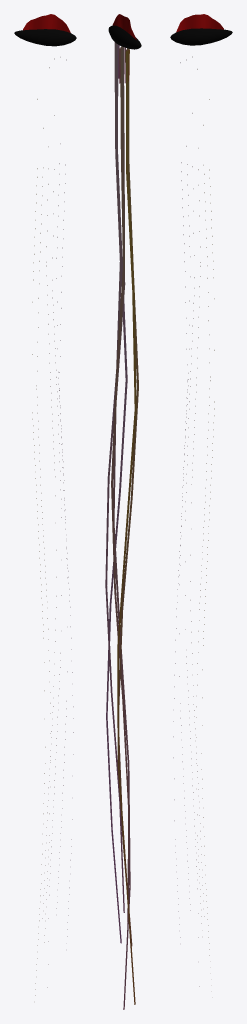
Rendered from man_o_war_lo.glb.
3 views of the same model, side by side, from view 1: azimuth 90°, elevation 25°; view 2: azimuth 210°, elevation 25°; view 3: azimuth 270°, elevation 25° (orthographic).
Visible parts, largest first — view 1: man_o_war_lo; view 2: man_o_war_lo; view 3: man_o_war_lo.
Part boxes in pixels (x1,y1,x2,y2): man_o_war_lo: (14, 14, 76, 995); man_o_war_lo: (105, 14, 141, 1009); man_o_war_lo: (170, 14, 232, 986).
Size of the model in its own units: 0.0867 by 4.38 by 0.25.
